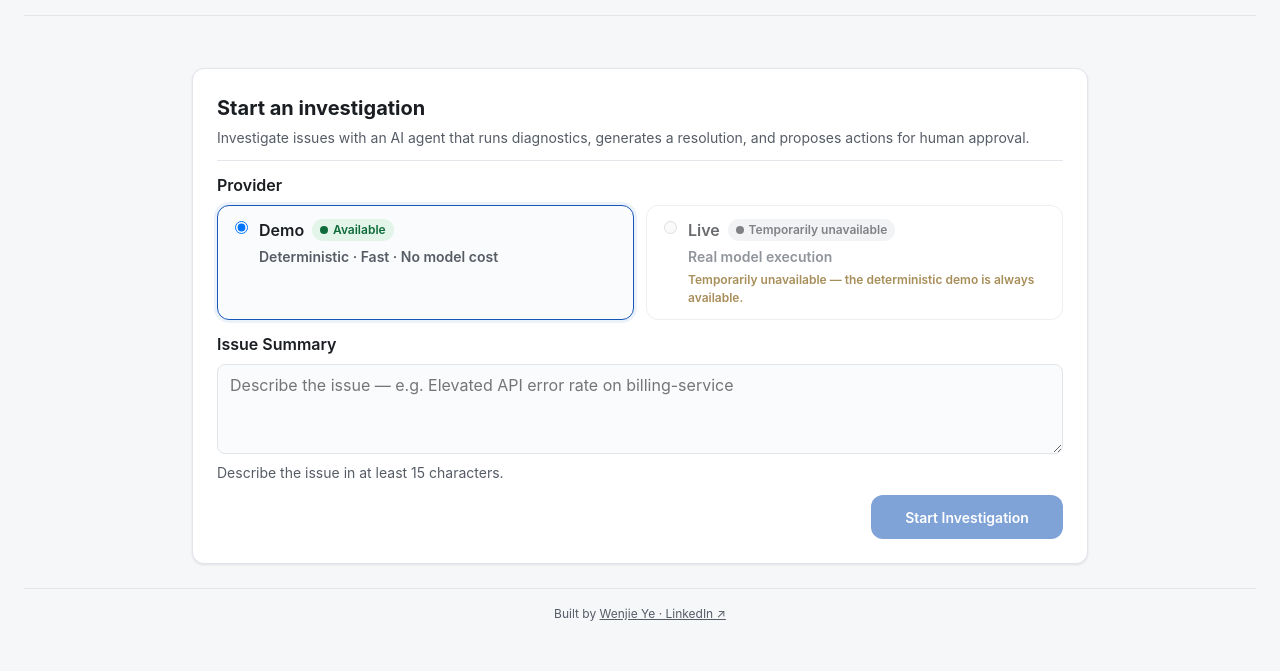
Test: Data-driven reveal boundaries › an applicable approval surface appears only after its load settles, positioned after Suggested actions
This screenshot has width=1280, height=671.
In the text box labelled "Issue Summary": (640, 409) top-left (217, 364), bottom-right (1063, 454), type "Approval demo issue"
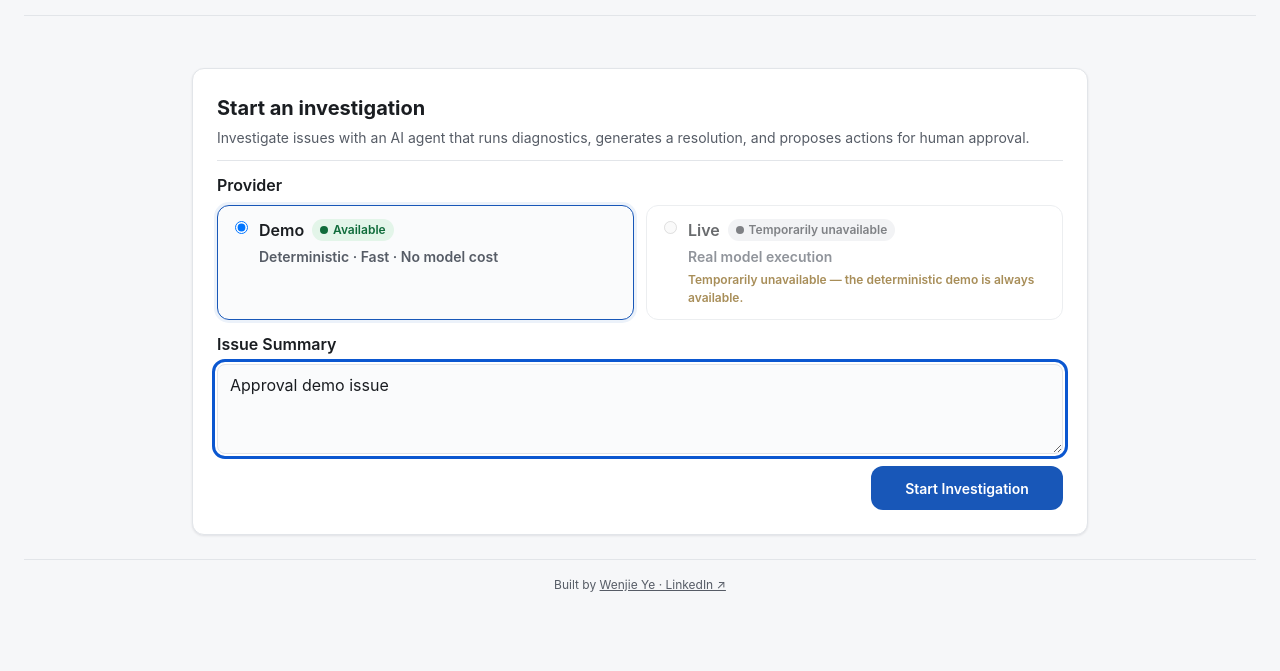
Click the button "Start Investigation": (967, 488) top-left (871, 466), bottom-right (1063, 510)
(page scrolled)
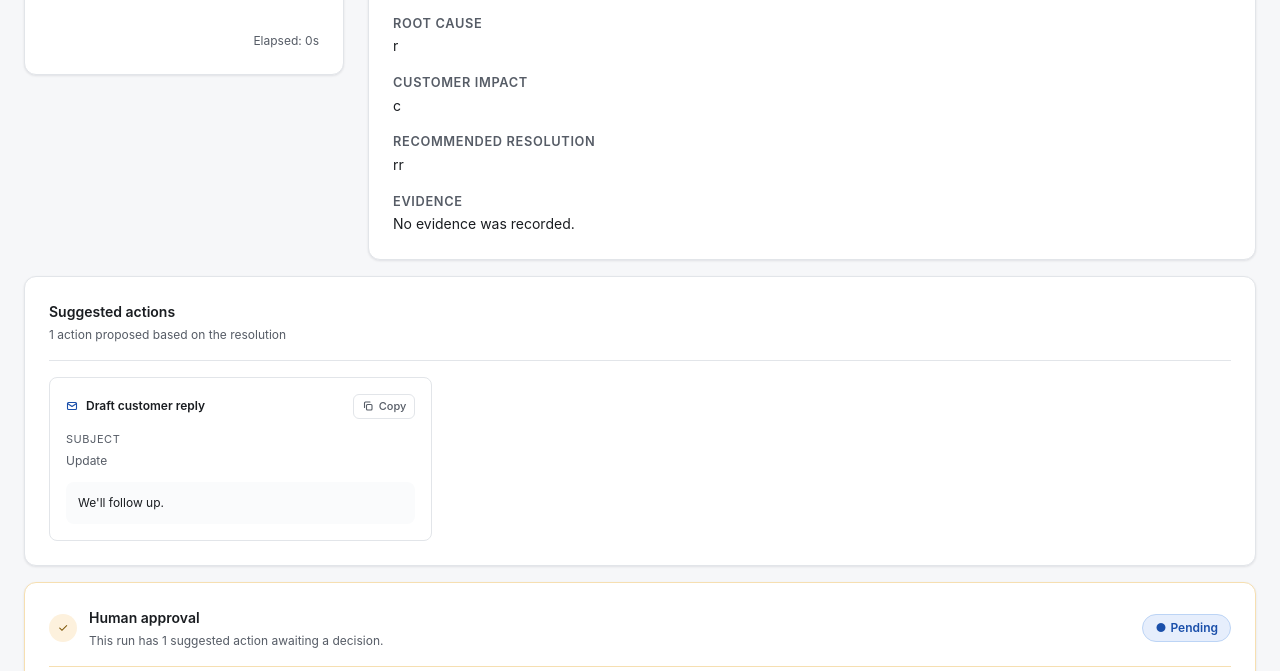
Check: the heading "Suggested actions" is shown, box top-left (49, 303), bottom-right (175, 320)
